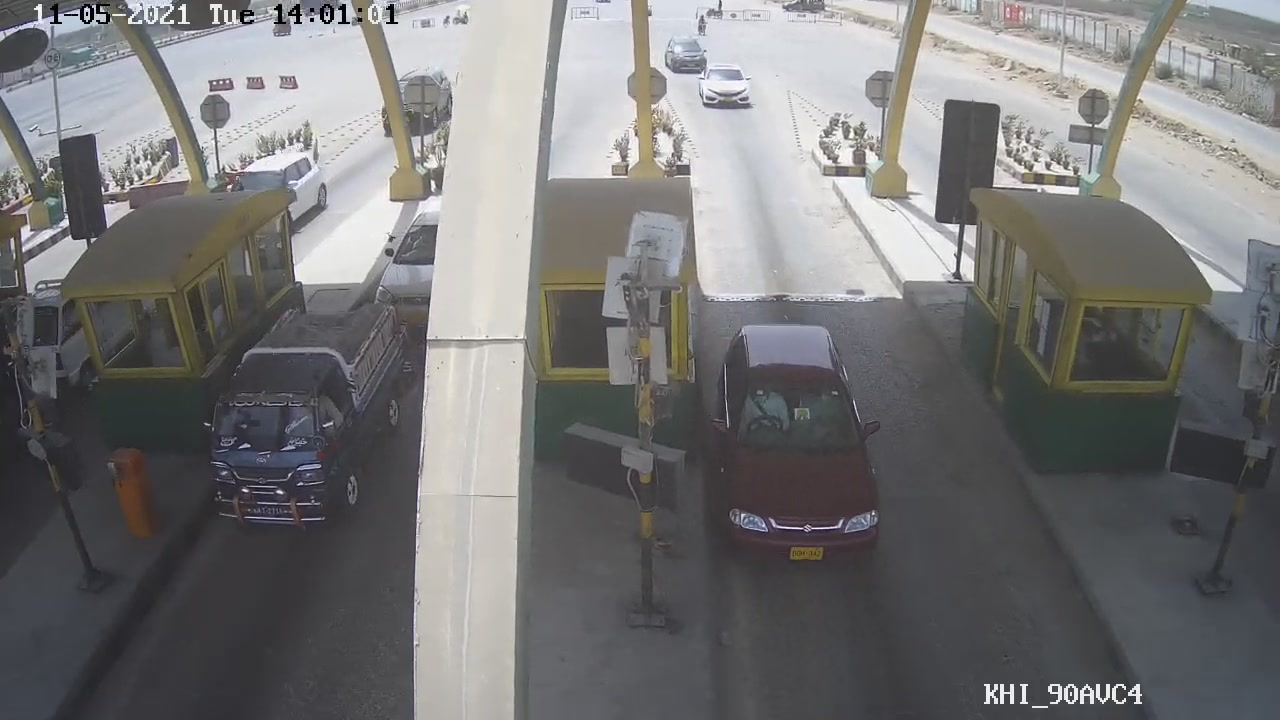F1: (714, 322, 889, 570)
